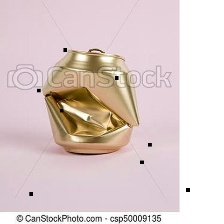can: (38, 46, 143, 164)
